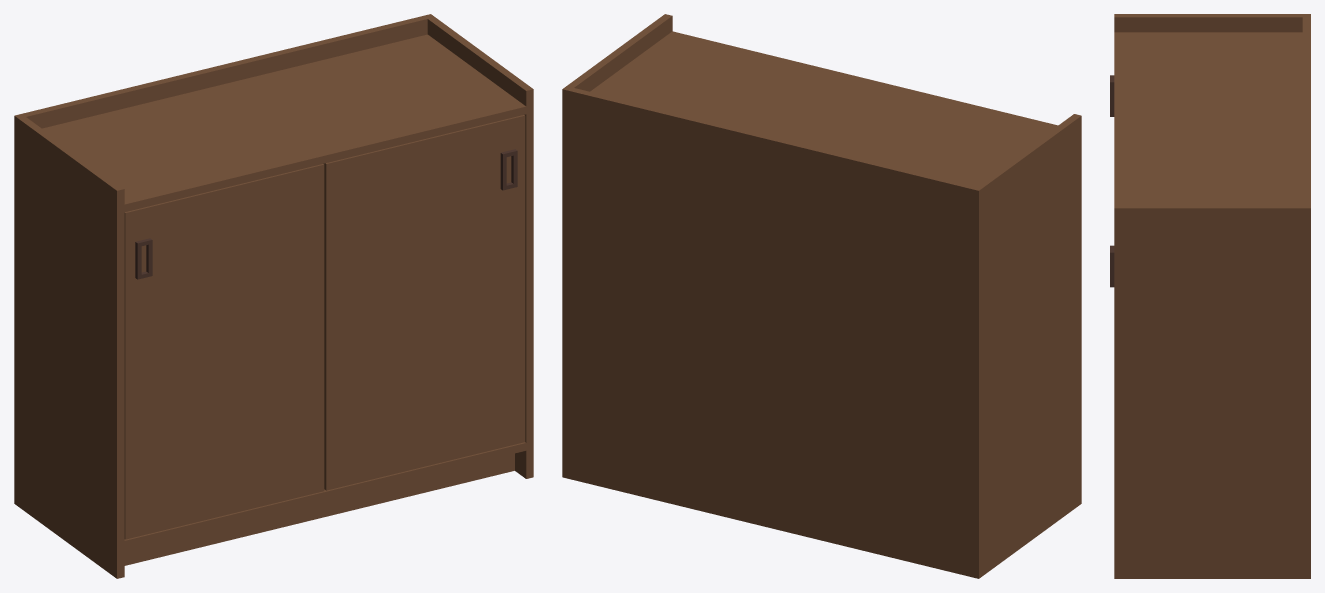
Rendered from dining_platter_cabinet.glb.
The picture shows the model from 3 angles, left to right: view 1: azimuth 30°, elevation 25°; view 2: azimuth 150°, elevation 25°; view 3: azimuth 270°, elevation 25°; orthographic projection. The views are drawn at different scales.
Parts seen in each view (by area): view 1: dining_platter_cabinet; view 2: dining_platter_cabinet; view 3: dining_platter_cabinet.
Part boxes in pixels (x1=…): dining_platter_cabinet: x1=14, y1=14, x2=533, y2=578; dining_platter_cabinet: x1=562, y1=14, x2=1081, y2=578; dining_platter_cabinet: x1=1110, y1=14, x2=1310, y2=578.
Bounding box in the file's own units: 42.12 × 37.5 × 18.4.
